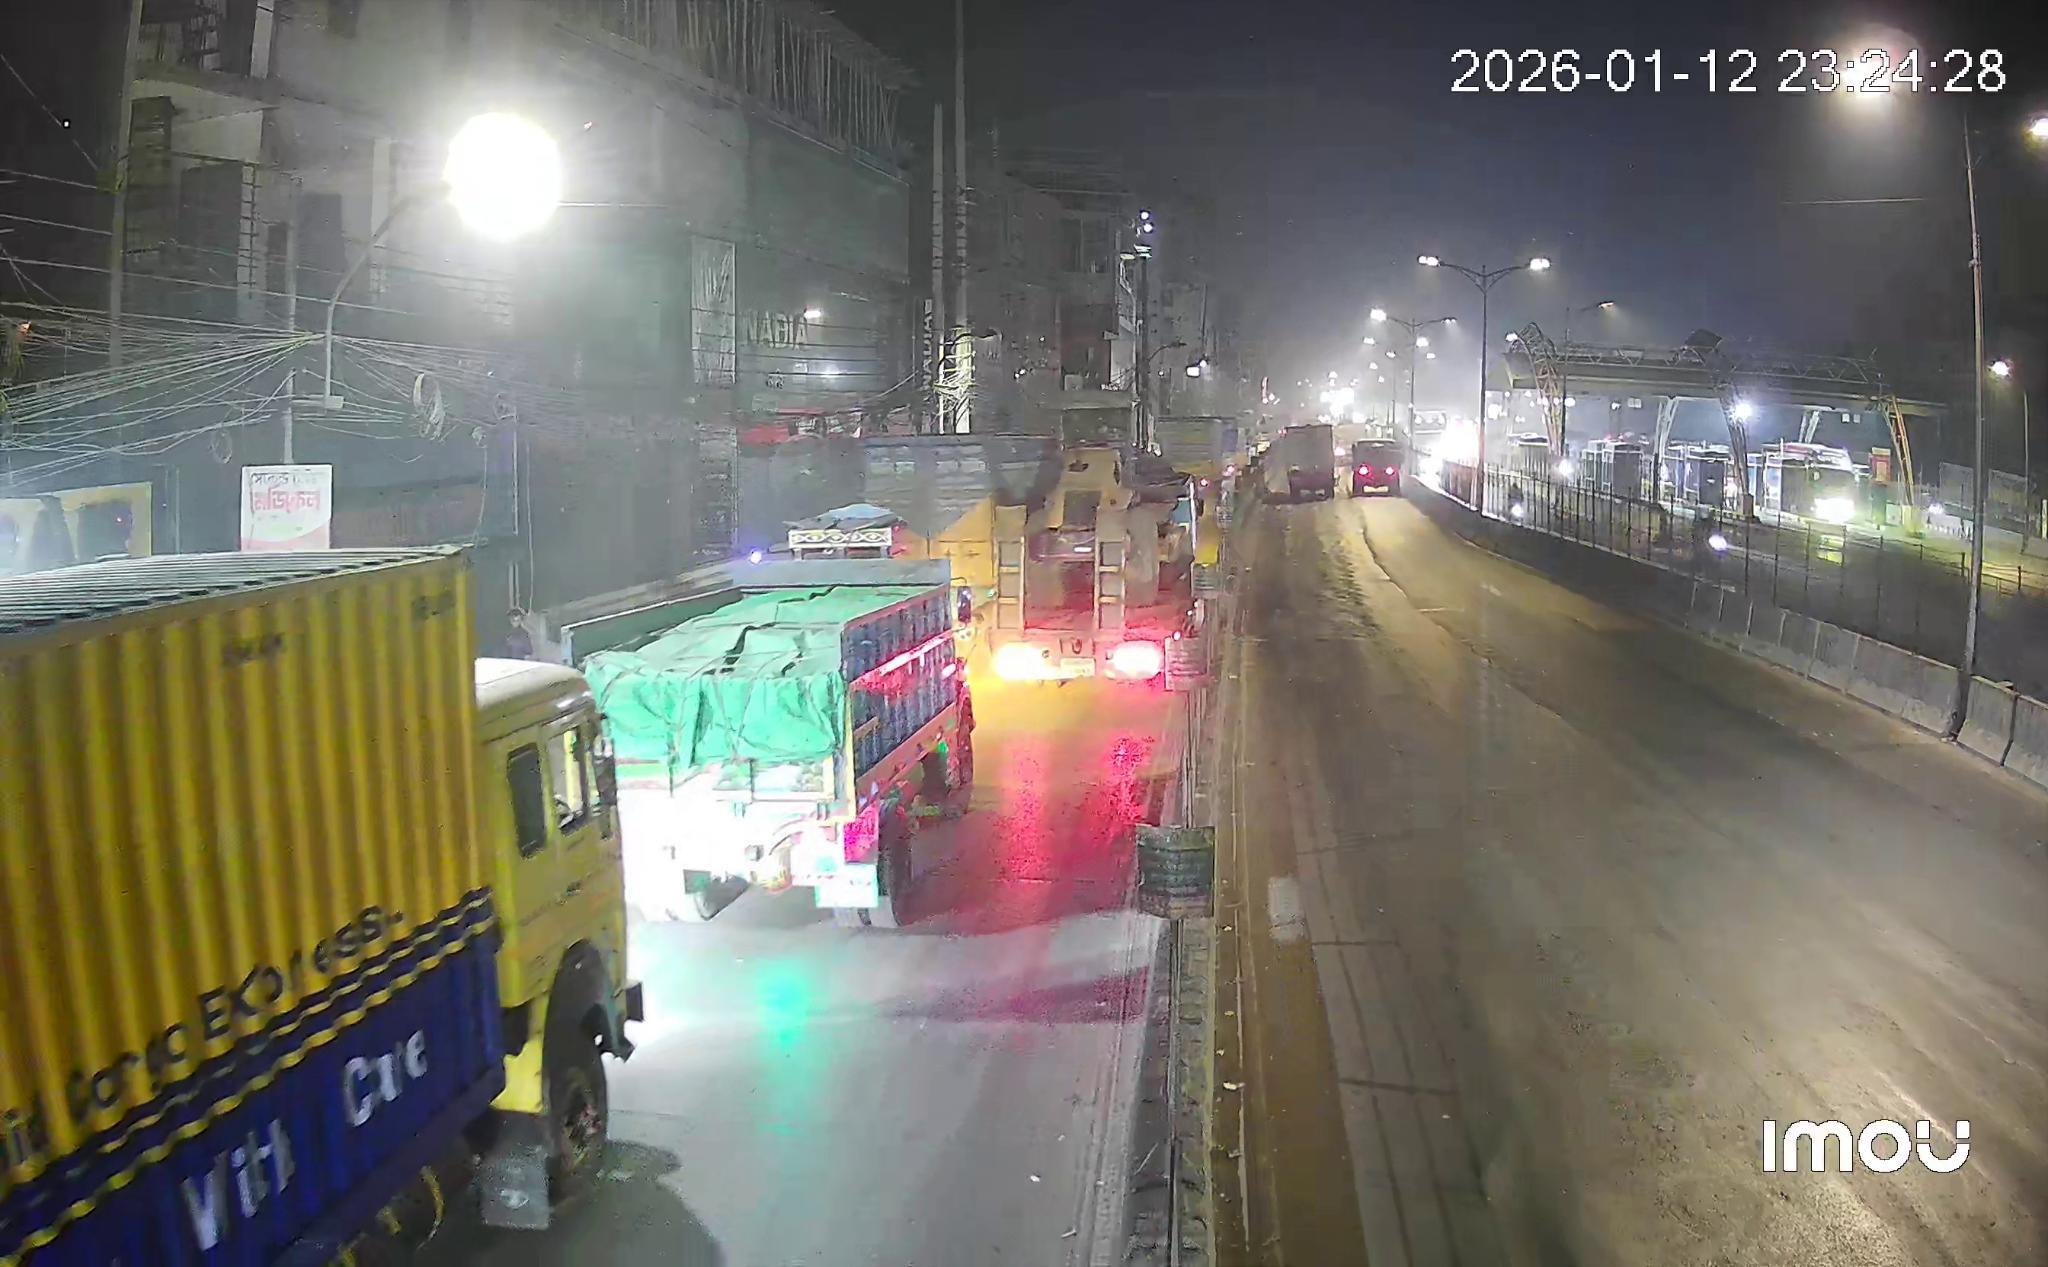Truck: (0, 550, 644, 1267), (553, 503, 973, 928)
